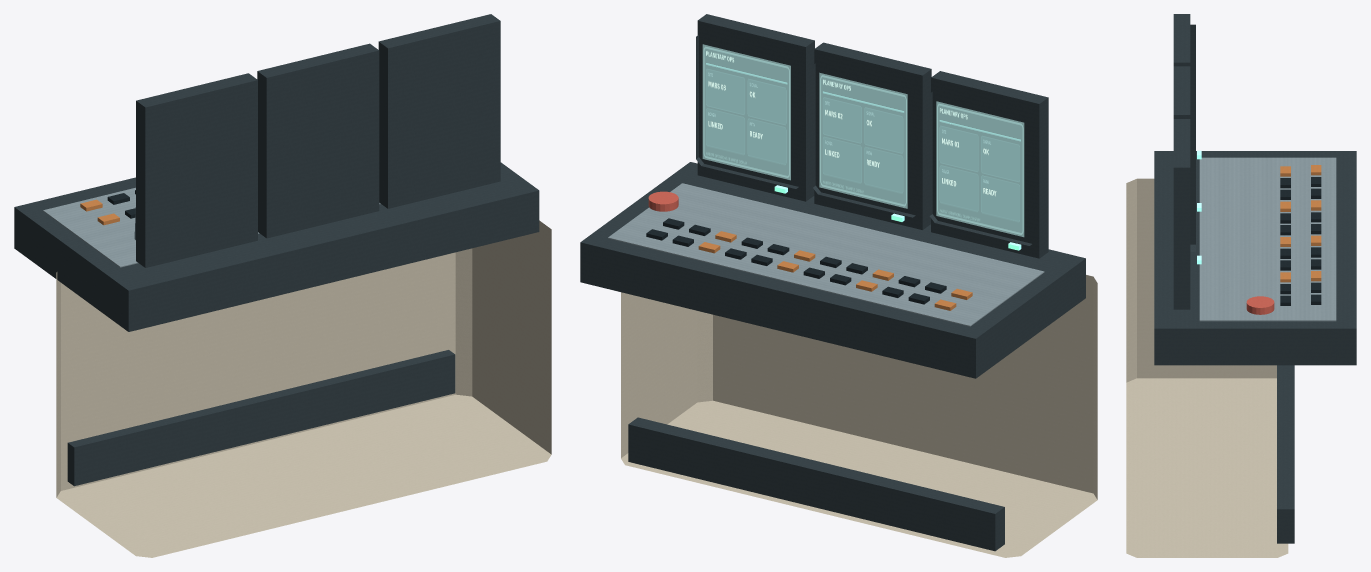
Rendered from planetary_data_console.glb.
The picture shows the model from 3 angles, left to right: view 1: azimuth 30°, elevation 25°; view 2: azimuth 150°, elevation 25°; view 3: azimuth 270°, elevation 25°; orthographic projection. The views are drawn at different scales.
Visible parts, largest first — view 1: static__cream, Screens__graphite, Console_Slope__graphite, static__graphite, Control_Deck__alloy; view 2: static__cream, Console_Slope__graphite, Screens__graphite, Control_Deck__alloy, static__graphite, Display__ui_planet0, Display__ui_planet1, Display__ui_planet2, Tactile_Controls__carbon, Display__graphite, Tactile_Controls__amber; view 3: static__cream, Control_Deck__alloy, Console_Slope__graphite, Screens__graphite, static__graphite, Tactile_Controls__carbon, Display__graphite, Tactile_Controls__amber, Emergency_Control__red.
Boxes of the visible parts, x1,y1,x2,y2 form: static__cream: (56, 220, 551, 557); Screens__graphite: (136, 14, 500, 267); Console_Slope__graphite: (14, 162, 539, 331); static__graphite: (67, 350, 455, 486); Control_Deck__alloy: (43, 187, 380, 267); static__cream: (621, 275, 1097, 557); Console_Slope__graphite: (580, 162, 1085, 378); Screens__graphite: (697, 14, 1048, 258); Control_Deck__alloy: (608, 183, 1044, 326); static__graphite: (628, 417, 1004, 551); Display__ui_planet0: (936, 101, 1024, 237); Display__ui_planet1: (819, 72, 907, 208); Display__ui_planet2: (702, 44, 790, 180); Tactile_Controls__carbon: (646, 218, 946, 304); Display__graphite: (696, 31, 1031, 245); Tactile_Controls__amber: (698, 231, 972, 310); static__cream: (1126, 178, 1288, 557); Control_Deck__alloy: (1199, 157, 1336, 321); Console_Slope__graphite: (1154, 151, 1356, 365); Screens__graphite: (1173, 14, 1190, 309); static__graphite: (1277, 365, 1294, 543); Tactile_Controls__carbon: (1280, 177, 1321, 305); Display__graphite: (1190, 24, 1195, 294); Tactile_Controls__amber: (1280, 165, 1321, 282); Emergency_Control__red: (1246, 296, 1274, 314).
Size of the model in its own units: 1.68 by 1.64 by 0.91.
Materials: 10 (10 with a texture image).
